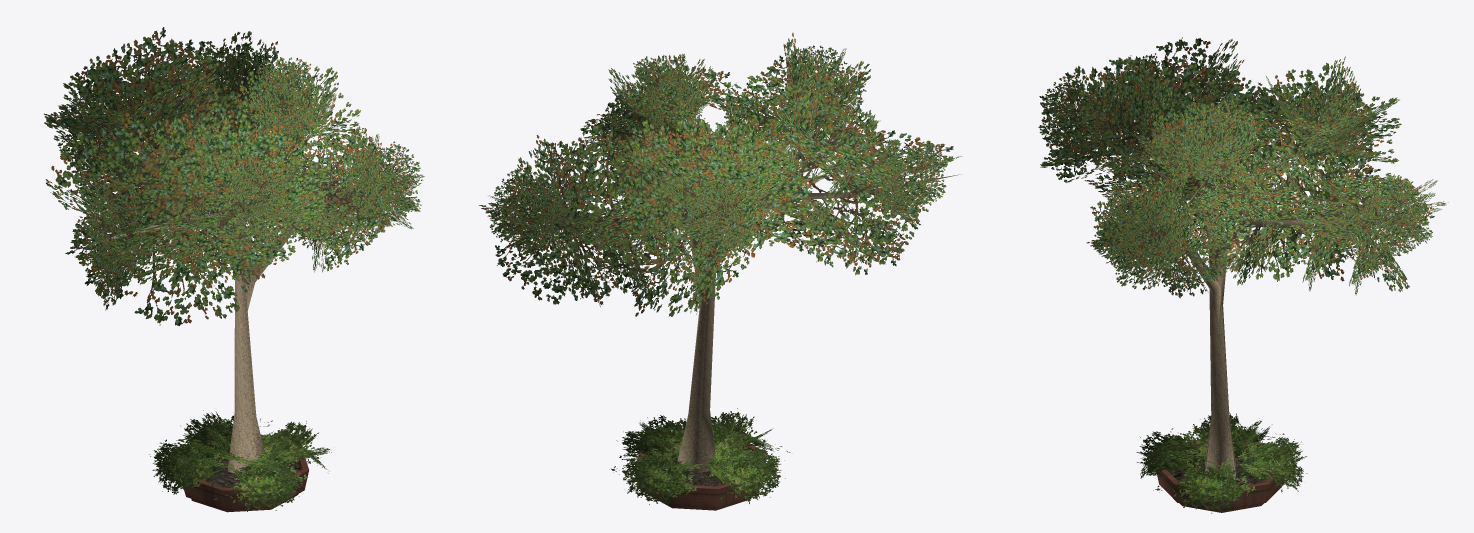
The model's file is mun_all_imprv_planter_s04_l1.fbx.
3 renders of one model, left to right at view 1: azimuth 30°, elevation 25°; view 2: azimuth 150°, elevation 25°; view 3: azimuth 270°, elevation 25°, orthographic. The views are drawn at different scales.
Visible parts, largest first — view 1: mesh_node; view 2: mesh_node; view 3: mesh_node.
Boxes of the visible parts, <box> form: mesh_node: <box>44,27,424,512</box>; mesh_node: <box>479,33,962,510</box>; mesh_node: <box>1038,37,1448,513</box>.
Bounding box in the file's own units: 14.96 × 16.5 × 16.14.
